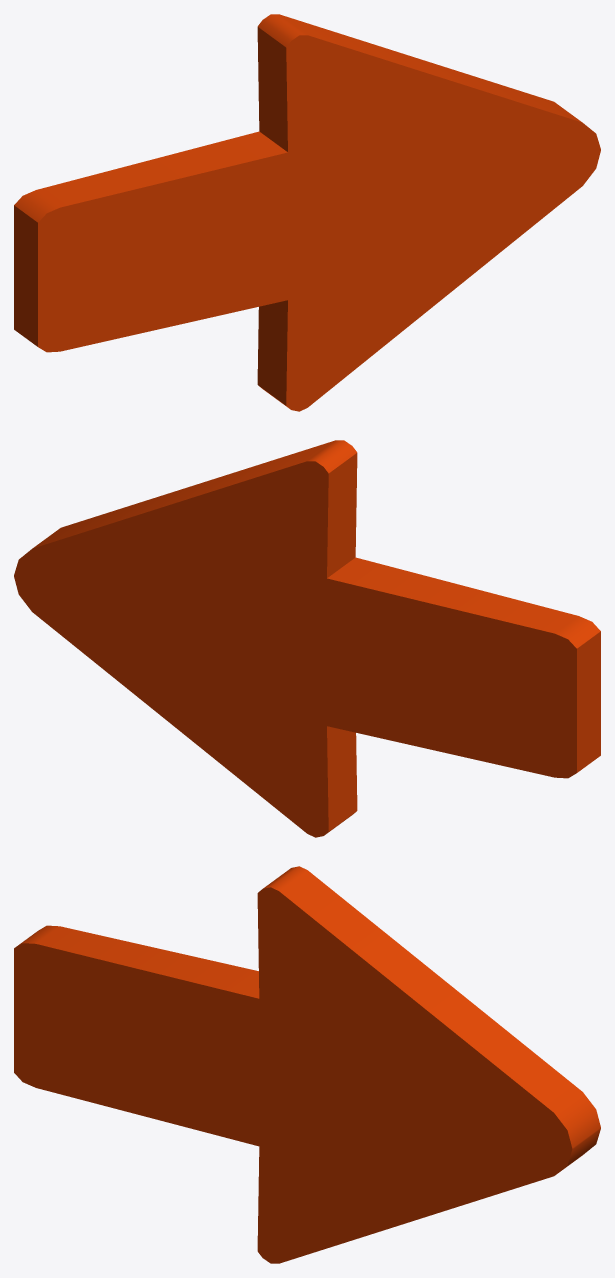
Rendered from Direction Arrow_2.fbx.
3 views of the same model, one above another, from view 1: azimuth 30°, elevation 25°; view 2: azimuth 150°, elevation 25°; view 3: azimuth 330°, elevation 25° (orthographic).
Visible parts, largest first — view 1: Direction Arrow_2; view 2: Direction Arrow_2; view 3: Direction Arrow_2.
Boxes of the visible parts, box(x1,y1,x2,y2) form: Direction Arrow_2: box(14, 14, 600, 411); Direction Arrow_2: box(14, 440, 600, 837); Direction Arrow_2: box(14, 866, 600, 1263).
Size of the model in its own units: 0.3673 by 0.2357 by 0.0326.
